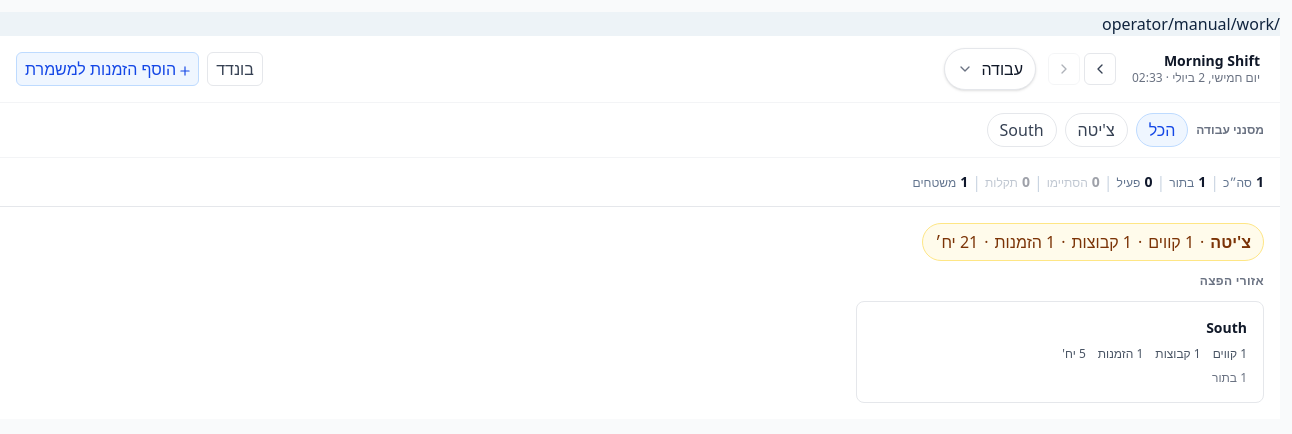
Test: ManualOperatorPage URL sections › separates Chita into a special delivery-channel section on the root areas screen
Check: the element with test id "normal-areas-section" is shown, box [856, 272, 1264, 403]
Check: the button with test id "area-card-south" is shown, box [856, 301, 1264, 403]
Click the button with test id "special-area-chip-צ'יטה".
click(1093, 242)  # box [922, 223, 1264, 261]
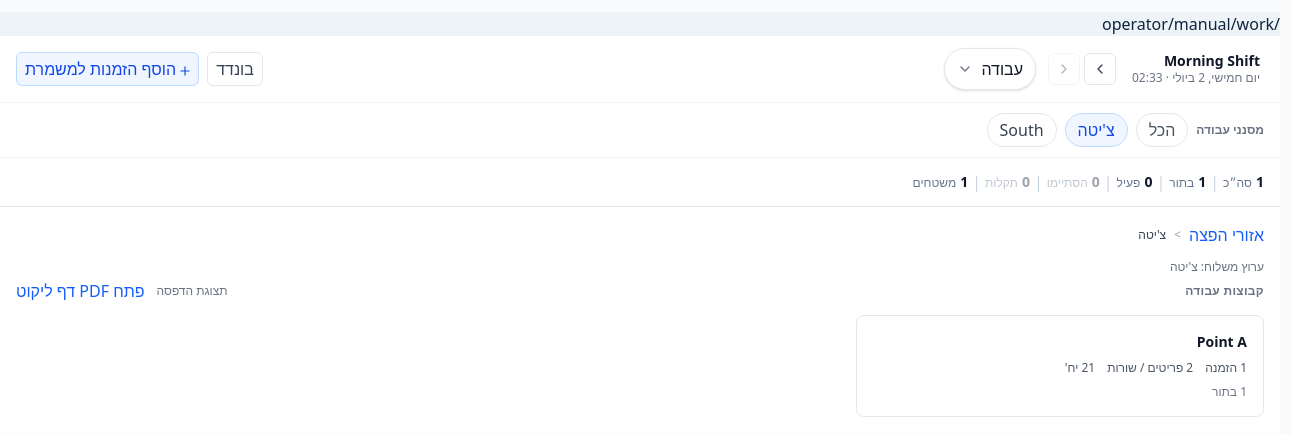
Check: the button with test id "work-bucket-card-Point A" is shown, box [857, 316, 1263, 416]
